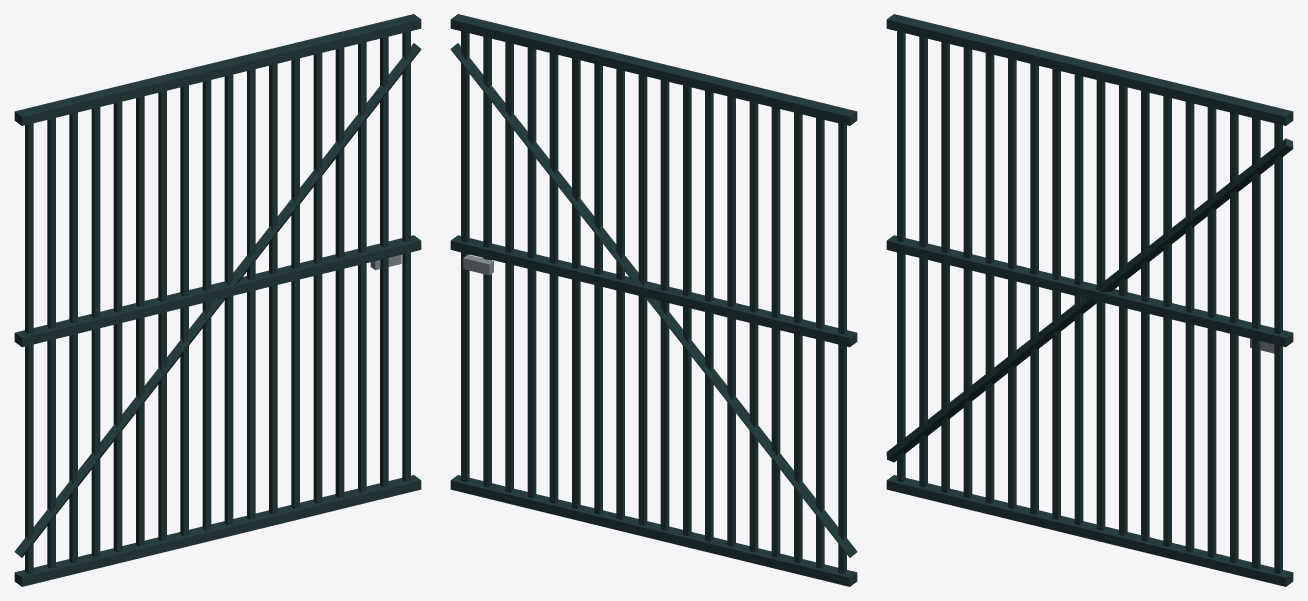
Rendered from bars_gate_leaf_L.fbx.
3 renders of one model, left to right at view 1: azimuth 30°, elevation 25°; view 2: azimuth 150°, elevation 25°; view 3: azimuth 330°, elevation 25°, orthographic.
Visible parts, largest first — view 1: bars_gate_leaf_L; view 2: bars_gate_leaf_L; view 3: bars_gate_leaf_L.
Part boxes in pixels (<box>): bars_gate_leaf_L: <box>14,14,421,586</box>; bars_gate_leaf_L: <box>450,14,857,586</box>; bars_gate_leaf_L: <box>886,14,1293,586</box>.
Size of the model in its own units: 2.9 by 3.2 by 0.12.
